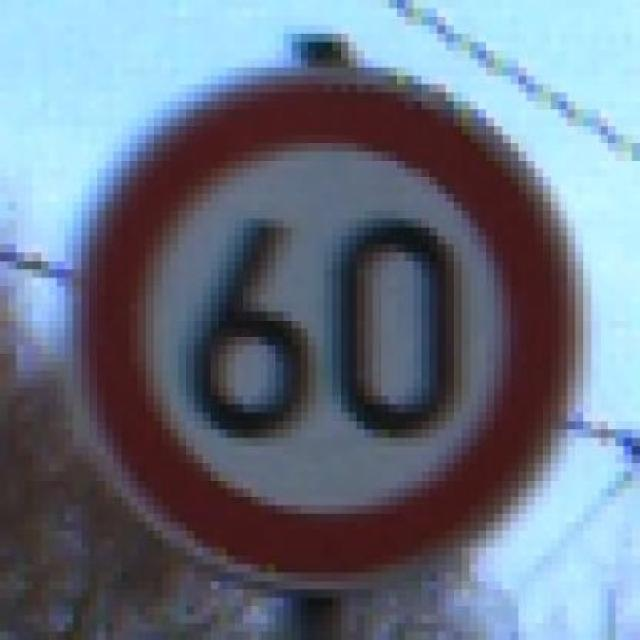forb_speed_over_60: (72, 71, 575, 586)
